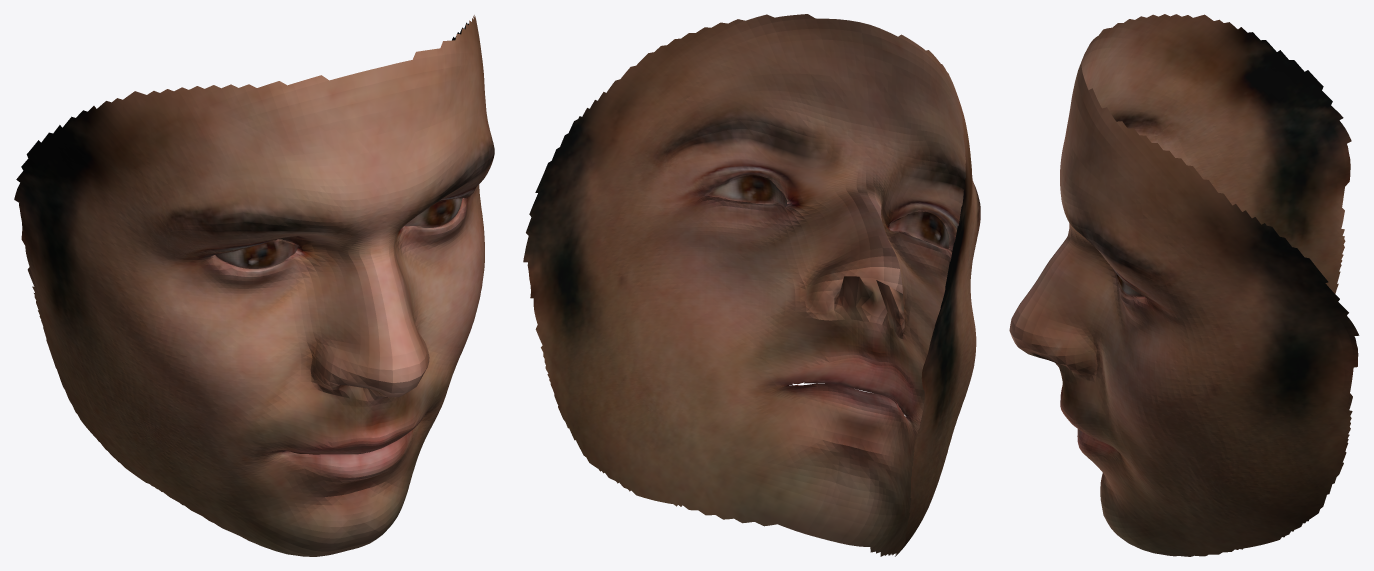
File: generated.photos_v3_0000500_mesh.obj
3 views of the same model, side by side, from view 1: azimuth 30°, elevation 25°; view 2: azimuth 150°, elevation 25°; view 3: azimuth 270°, elevation 25° (orthographic). The views are drawn at different scales.
Bounding box in the file's own units: 1.49 × 1.71 × 1.14.
